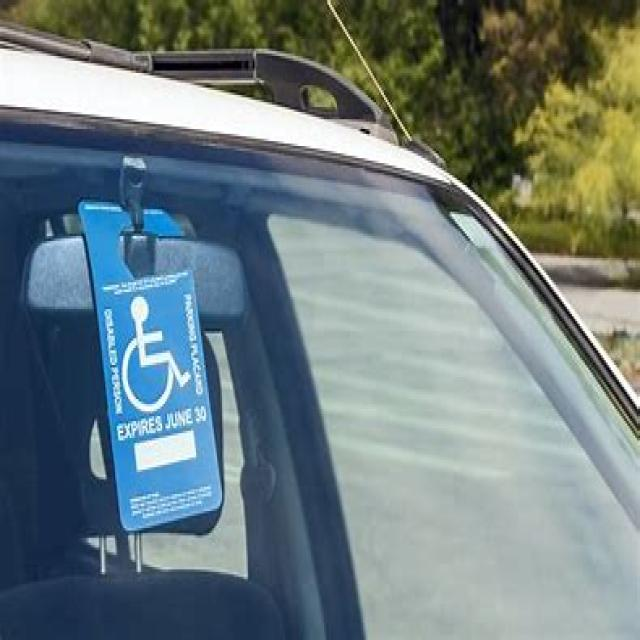car-handicap-placard: (119, 297, 196, 413)
